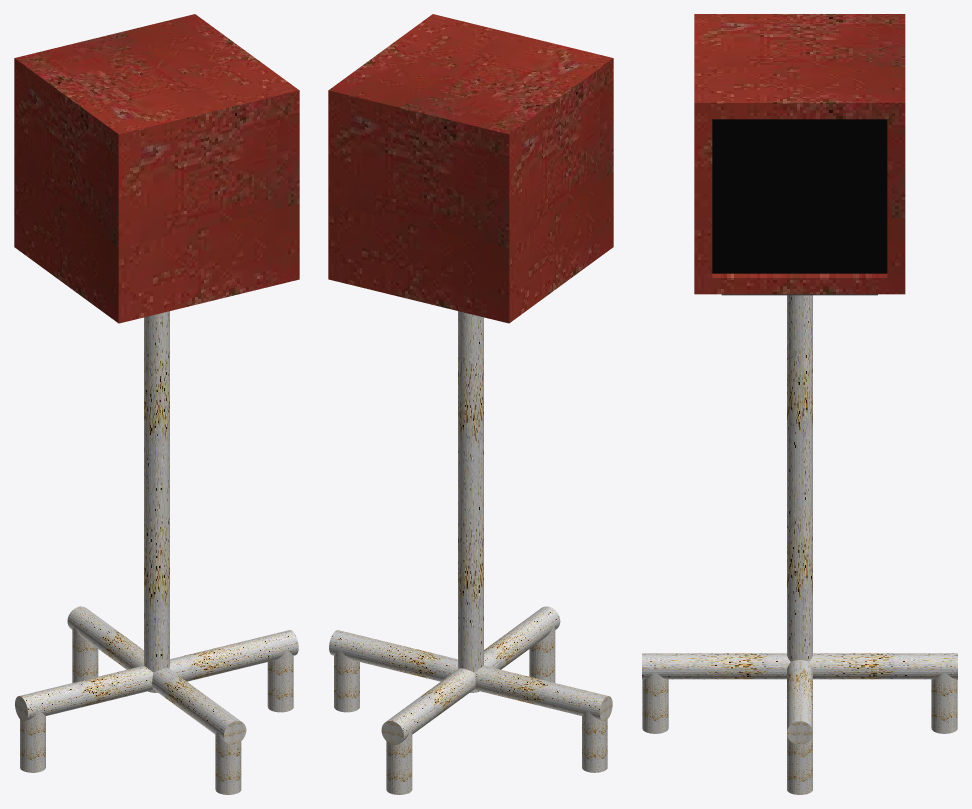
The model's file is clean_monitor.glb.
3 views of the same model, side by side, from view 1: azimuth 30°, elevation 25°; view 2: azimuth 150°, elevation 25°; view 3: azimuth 270°, elevation 25° (orthographic).
Parts seen in each view (by area): view 1: Куб; view 2: Куб; view 3: Куб.
Boxes of the visible parts, x1=… form: Куб: x1=14, y1=14, x2=299, y2=794; Куб: x1=328, y1=14, x2=613, y2=794; Куб: x1=642, y1=14, x2=957, y2=794.
Size of the model in its own units: 24.04 by 56.25 by 24.04.
4 materials, 3 textured.
